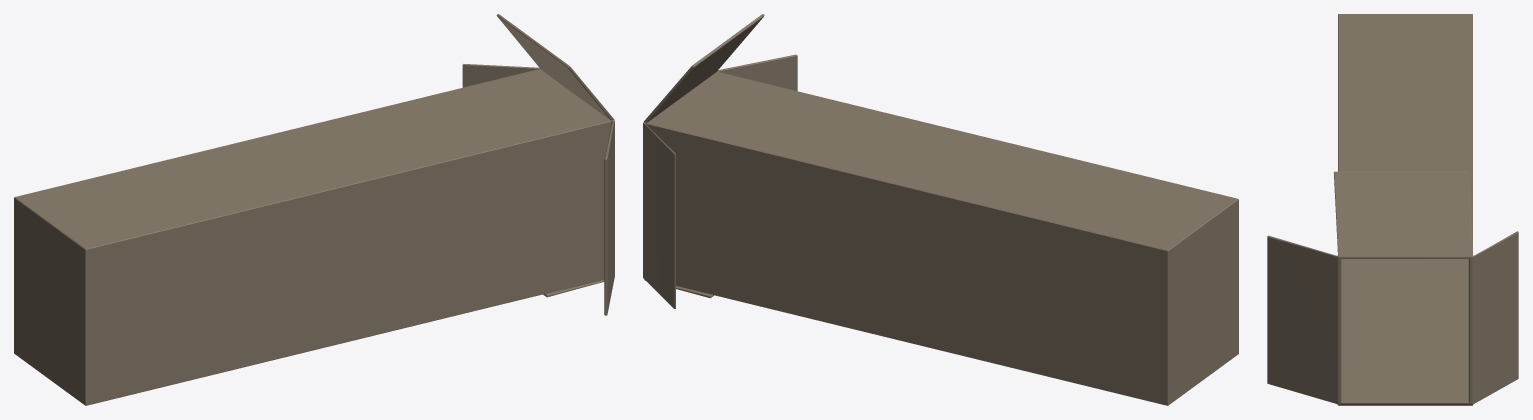
File: A3C_Openbox.fbx
3 renders of one model, left to right at view 1: azimuth 30°, elevation 25°; view 2: azimuth 150°, elevation 25°; view 3: azimuth 270°, elevation 25°, orthographic. The views are drawn at different scales.
Visible parts, largest first — view 1: pCube3; view 2: pCube3; view 3: pCube3.
Boxes of the visible parts, box(x1,y1,x2,y2) form: pCube3: box(14, 14, 614, 405); pCube3: box(643, 14, 1238, 405); pCube3: box(1267, 14, 1518, 405).
Bounding box in the file's own units: 4.27 × 1.76 × 1.86.
